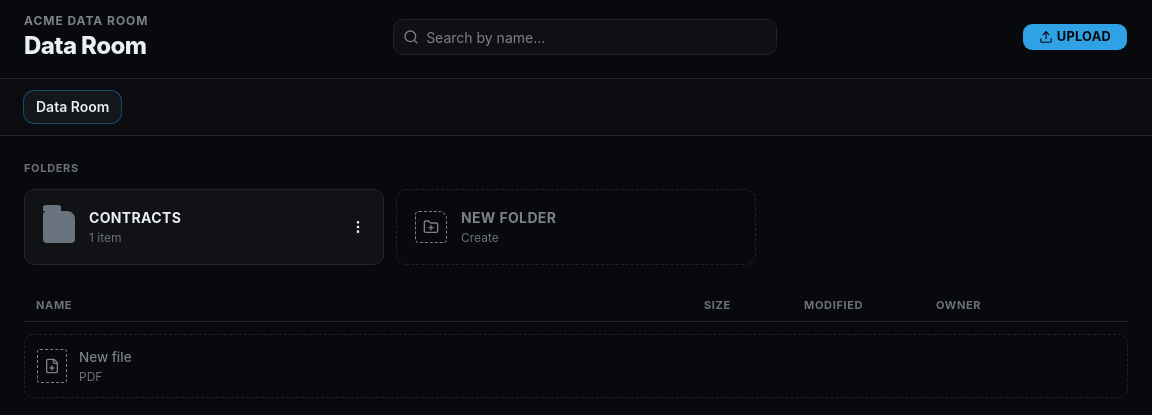
Scenario: DataRoomPage › shows the parent path on folder search matches
Expected: the button "New folder Create" is shown, [396,188,756,264]
Step 1. Type "2024" into the field with placeholder "Search by name..." → (585, 37), box [393,19,777,55]
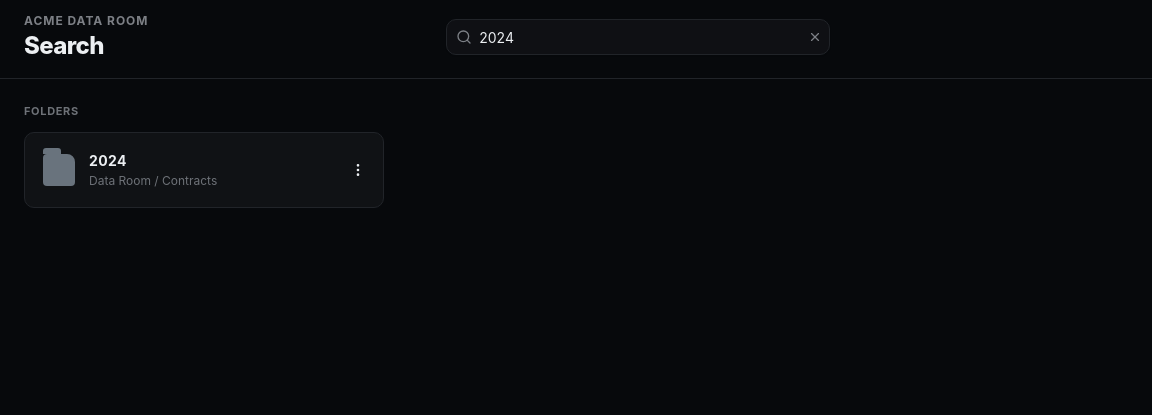
Now the link "2024 Data Room / Contracts" is shown, box [43,152,217,188]
Now the link "2024 Data Room / Contracts" no longer shows "item", box [43,152,217,188]
